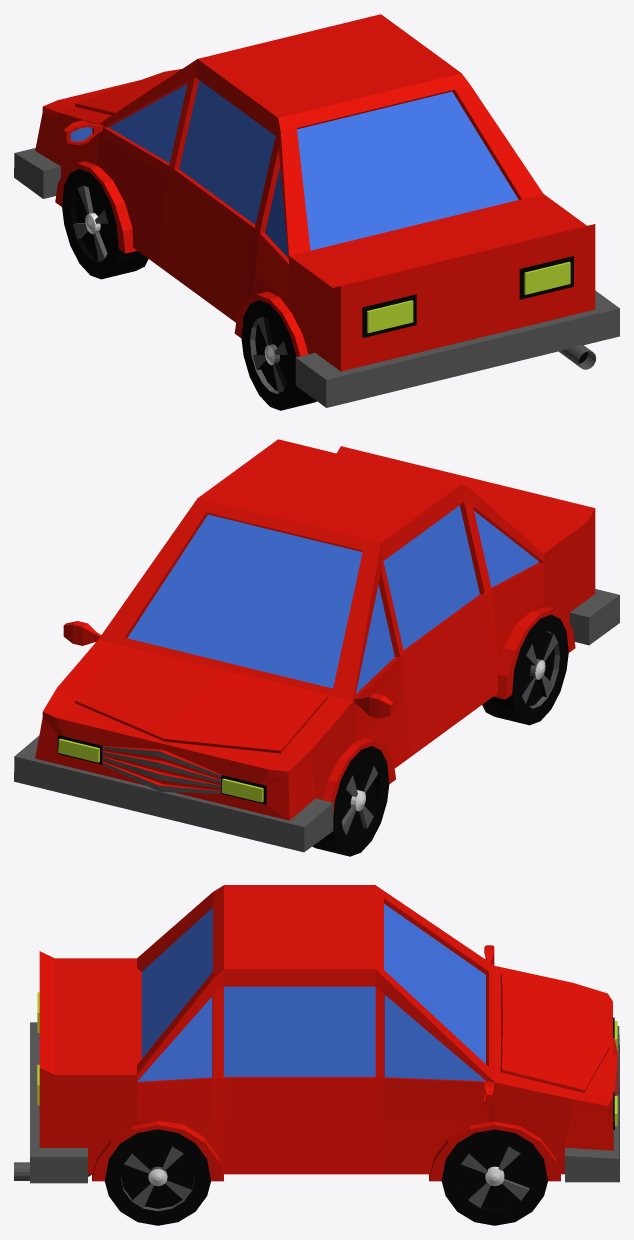
The model's file is red_car.gltf.
3 renders of one model, top to bottom at view 1: azimuth 30°, elevation 25°; view 2: azimuth 150°, elevation 25°; view 3: azimuth 270°, elevation 25°, orthographic. The views are drawn at different scales.
Parts seen in each view (by area): view 1: Car1; view 2: Car1; view 3: Car1.
Boxes of the visible parts, x1,y1,x2,y2 form: Car1: (14, 14, 619, 410); Car1: (14, 439, 619, 856); Car1: (14, 885, 619, 1225).
Size of the model in its own units: 0.7311 by 0.5396 by 1.25.
